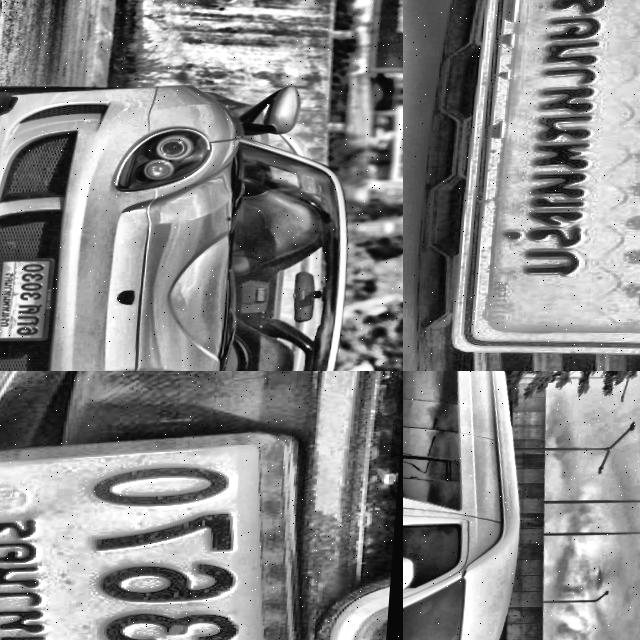license-plate: (406, 0, 640, 371), (0, 444, 387, 640), (0, 259, 58, 341)
